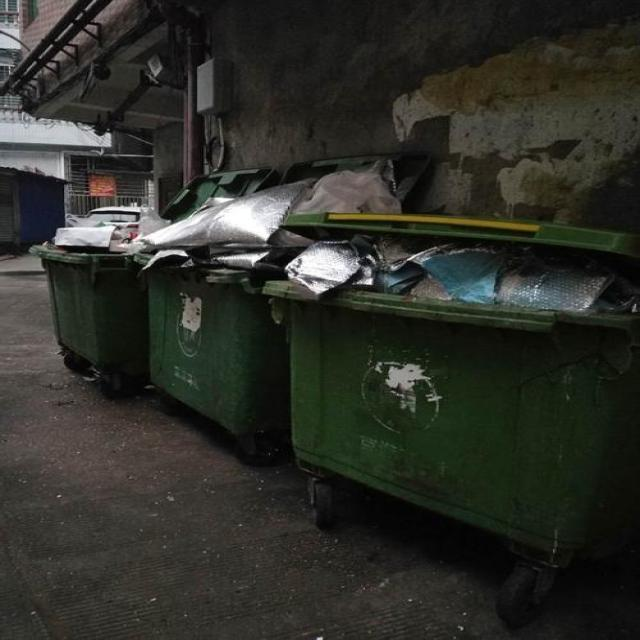overflow: (261, 209, 639, 553), (127, 171, 396, 438), (25, 212, 148, 374)
